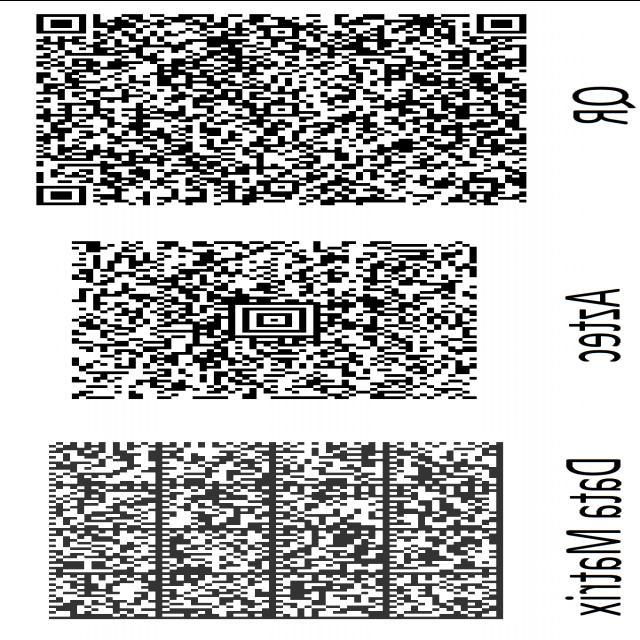Data-Matrix: (34, 438, 519, 623)
